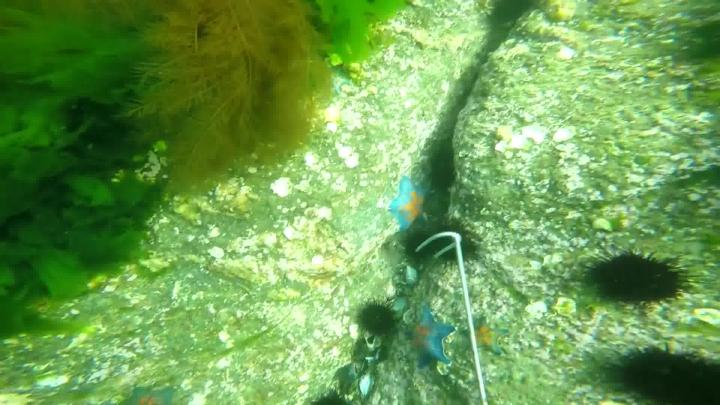echinus: (611, 347, 720, 405), (589, 251, 698, 304), (437, 219, 476, 268), (359, 302, 397, 337), (408, 232, 437, 260), (312, 390, 349, 405)
scallop: (525, 121, 545, 146), (498, 131, 524, 149), (553, 125, 577, 143), (527, 301, 548, 320), (554, 300, 578, 316)
starfish: (406, 301, 452, 372), (393, 175, 433, 230), (470, 319, 510, 357), (125, 388, 181, 405)
